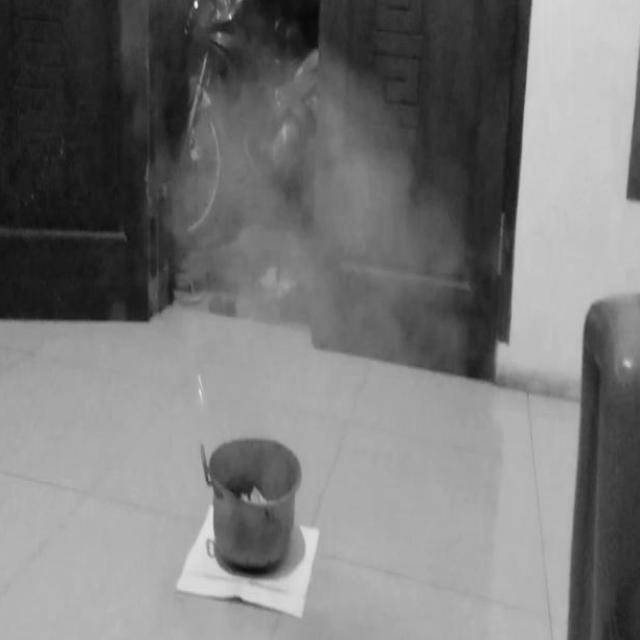fire: (178, 97, 443, 376)
